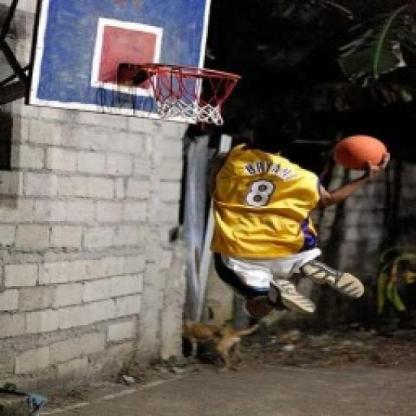basketball: (335, 135, 383, 170)
